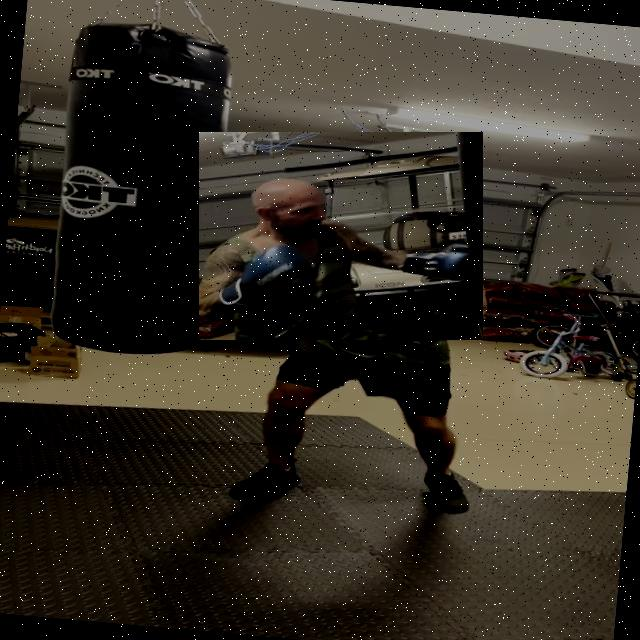punch: (199, 132, 483, 340)
